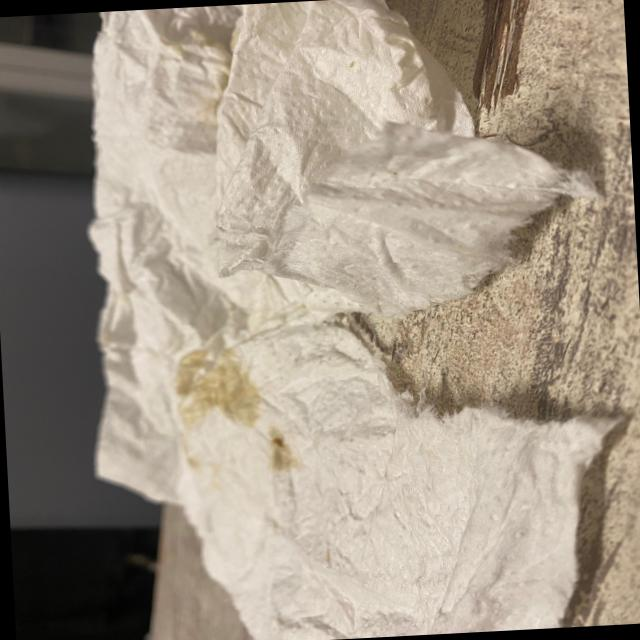organic waste: (62, 0, 631, 640)
